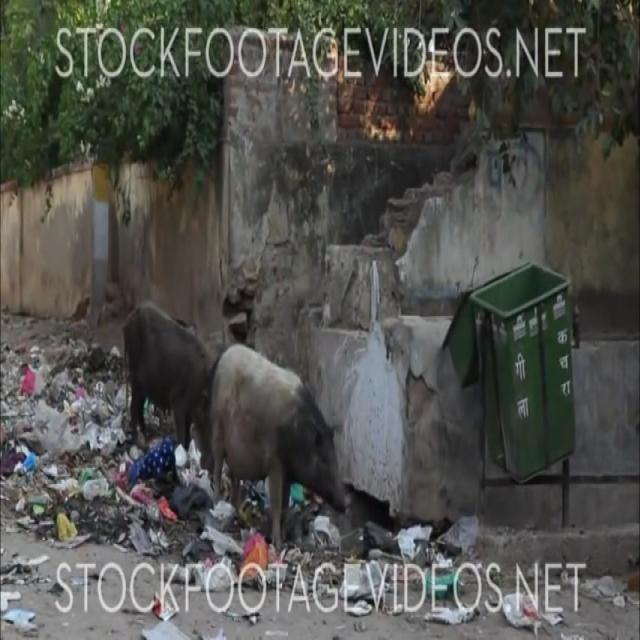high trash: (0, 338, 431, 616)
less trash: (502, 594, 544, 627), (0, 592, 35, 627), (142, 620, 190, 640), (1, 556, 49, 575), (425, 607, 475, 625), (435, 572, 454, 599)
